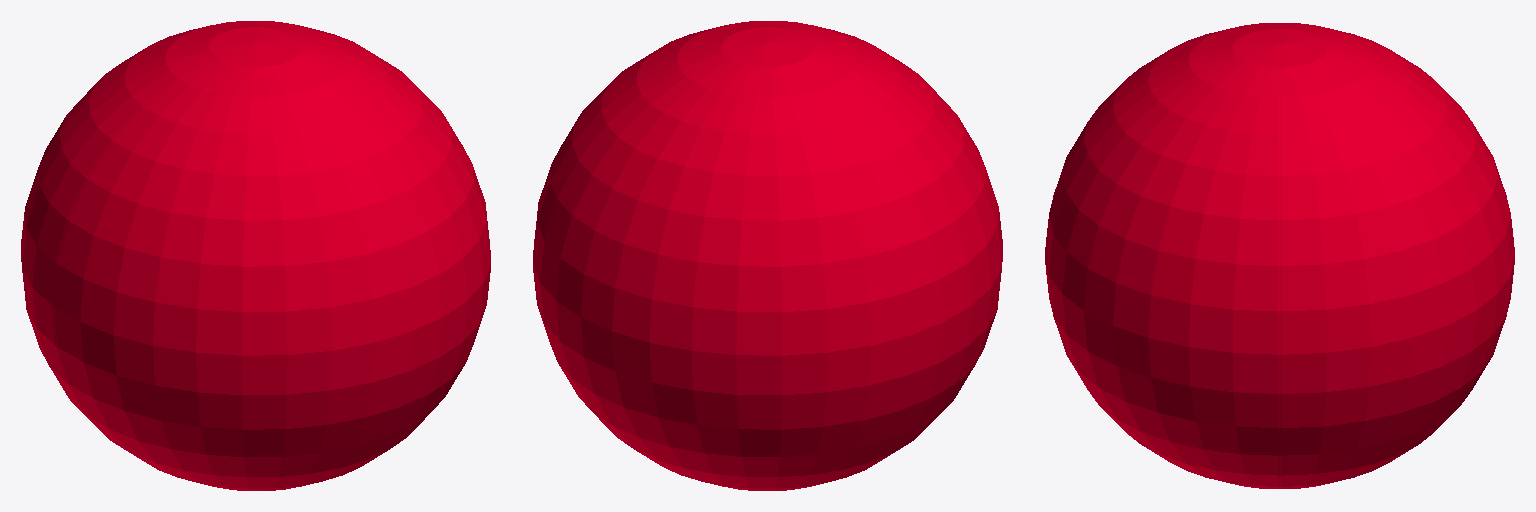
robot.urdf — tactip:
<?xml version="1.0" ?>
<robot name="tactip">

    <link name="base_link"/>
    <link name="translation_x"/>
    <link name="translation_y"/>
    <link name="translation_z"/>


    <joint name="x_joint" type="prismatic">
        <!-- <origin xyz="-0.204 0 0" rpy="0 0 0"/> -->
        <origin xyz="0 0 0.085" rpy="3.1415 0 0"/>
        <parent link="base_link"/>
        <child link="translation_x"/>
        <axis xyz="1 0 0"/>
		<limit lower="-0.200000" upper="0.200000"/>
    </joint>

    <joint name="y_joint" type="prismatic">
        <!-- <origin xyz="0 0.993 0" rpy="0 0 0"/> -->
        <origin xyz="0 0 0" rpy="0 0 0"/>
        <parent link="translation_x"/>
        <child link="translation_y"/>
        <axis xyz="0 1 0"/>
		<limit lower="-0.200000" upper="0.200000"/>
    </joint>

    <joint name="z_joint" type="fixed">
        <!-- <origin xyz="0 0 0.958" rpy="0 0 0"/> -->
        <origin xyz="0 0 0" rpy="0 0 0"/>
        <parent link="translation_y"/>
        <child link="translation_z"/>
        <axis xyz="0 0 1"/>
    </joint>


	<link name="tactip_body_link">
		<inertial>
			<origin rpy="0.00000 -0.00000 0.00000" xyz="0.00000 0.00000 0.00000"/>
			<mass value="0.25000"/>
			<inertia ixx="0.00022" ixy="0" ixz="0" iyy="0.00021" iyz="0" izz="0.00021"/>
		</inertial>
		<visual>
			<origin rpy="0.00000 -0.00000 0.00000" xyz="0.00000 0.00000 0.00000"/>
			<geometry>
				<mesh filename="package://tactile_sim_assets/sensor_assets/standard_tactip/body/tactip_body.obj" scale="1.00000 1.00000 1.00000"/>
			</geometry>
			<material name="mat_8">
				<color rgba="0.80000 0.80000 0.80000 1.00000" />
			</material>
		</visual>
		<collision>
			<origin rpy="0.00000 -0.00000 0.00000" xyz="0.00000 0.00000 0.00000"/>
			<geometry>
				<mesh filename="package://tactile_sim_assets/sensor_assets/standard_tactip/body/tactip_body.obj" scale="1.00000 1.00000 1.00000"/>
			</geometry>
		</collision>
	</link>

    <joint name="dummy_joint" type="fixed">
        <origin xyz="0 0 0" rpy="0 0 0"/>
        <parent link="translation_z"/>
        <child link="tactip_body_link"/>
        <axis xyz="0 0 0"/>
    </joint>

	<link name="tactip_tip_link">
		<inertial>
			<origin rpy="0.00000 -0.00000 0.00000" xyz="0.00000 0.00000 0.00000"/>
			<mass value="0.01000"/>
			<inertia ixx="0.00000" ixy="0" ixz="0" iyy="0.00000" iyz="0" izz="0.00000"/>
		</inertial>
		<visual>
			<origin rpy="0.00000 -0.00000 0.00000" xyz="0.00000 0.00000 0.00000"/>
			<geometry>
				<mesh filename="package://tactile_sim_assets/sensor_assets/standard_tactip/tip/skin.obj" scale="1.00000 1.00000 1.00000"/>
			</geometry>
			<material name="mat_9">
				<color rgba="0.00000 0.00000 1.00000 0.00000" />
			</material>
		</visual>
		<!-- <collision>
			<origin rpy="0.00000 -0.00000 0.00000" xyz="0.00000 0.00000 0.00000"/>
			<geometry>
				<mesh filename="package://tactile_sim_assets/sensor_assets/standard_tactip/tip/core.obj" scale="1.00000 1.00000 1.00000"/>
			</geometry>
		</collision> -->
	</link>

	<joint name="tactip_tip_to_body" type="fixed">
		<parent link="tactip_body_link"/>
		<child link="tactip_tip_link"/> 
		<dynamics damping="1.0" friction="0.0001"/>
		<origin rpy="1.57000 -0.00000 0.00000" xyz="0.00000 0.00000 0.06500"/>
		<axis xyz="0.00000 0.00000 0.00000"/>
	</joint>

<!-- this is a fake link for attaching the camera -->
	<link name="elastomer_tip">
		<inertial>
			<origin rpy="0.00000 -0.00000 0.00000" xyz="0.00000 0.00000 0.00000"/>
			<mass value="0.00000"/>
			<inertia ixx="0.00000" ixy="0" ixz="0" iyy="0.00000" iyz="0" izz="0.00000"/>
		</inertial>
		<visual>
			<origin rpy="0.00000 -0.00000 0.00000" xyz="0.00000 0.00000 0.00000"/>
			<geometry>
				<sphere radius="0.00100"/>
			</geometry>
			<material name="mat_10">
				<color rgba="0.90000 0.00000 0.20000 0.50000" />
			</material>
		</visual>
	</link>
	<joint name="dummy_camera_joint" type="fixed">
		<parent link="tactip_tip_link"/>
		<child link="elastomer_tip"/>
		<dynamics damping="1.0" friction="0.0001"/>
		<origin rpy="-1.57 -0.00000 0.00000" xyz="0.00000 0.02 -0.0"/>
		<axis xyz="0.00000 0.00000 0.00000"/>
	</joint>





	<link name="tcp_link">
		<inertial>
			<origin rpy="0.00000 -0.00000 1.57000" xyz="0.00000 0.00000 0.00000"/>
			<mass value="0.00000"/>
			<inertia ixx="0.00000" ixy="0" ixz="0" iyy="0.00000" iyz="0" izz="0.00000"/>
		</inertial>
		<visual>
			<origin rpy="0.00000 -0.00000 0.00000" xyz="0.00000 0.00000 0.00000"/>
			<geometry>
				<sphere radius="0.00100"/>
			</geometry>
			<material name="mat_10">
				<color rgba="0.90000 0.00000 0.20000 0.50000" />
			</material>
		</visual>
	</link>
	<joint name="tcp_joint" type="fixed">
		<parent link="tactip_body_link"/>
		<child link="tcp_link"/>
		<dynamics damping="1.0" friction="0.0001"/>
		<origin rpy="0.00000 -0.00000 0.00000" xyz="0.00000 0.00000 0.08500"/>
		<axis xyz="0.00000 0.00000 0.00000"/>
	</joint>


</robot>

--- Facts derived from the render (not from the file) ---
Views: 3 orthographic renders of the robot side by side, from view 1: azimuth 30°, elevation 25°; view 2: azimuth 150°, elevation 25°; view 3: azimuth 270°, elevation 25°.
Model tactip with 8 links and 7 joints (2 prismatic, 5 fixed), rooted at base_link, posed every joint at zero.
Links seen in each view (by area): view 1: elastomer_tip, tcp_link; view 2: tcp_link, elastomer_tip; view 3: elastomer_tip, tcp_link.
Boxes of the visible links, x1=… form: elastomer_tip: x1=53, y1=37, x2=490, y2=490; tcp_link: x1=21, y1=21, x2=395, y2=440; tcp_link: x1=533, y1=37, x2=970, y2=490; elastomer_tip: x1=628, y1=21, x2=1002, y2=440; elastomer_tip: x1=1045, y1=23, x2=1279, y2=488; tcp_link: x1=1280, y1=23, x2=1514, y2=488.
Bounding box of the posed robot: 0.002 × 0.002 × 0.002 m (x, y, z).
0 mesh visuals loaded from 2 distinct referenced files (none loaded); not drawn: 2 (reference not matched to a file when rendering).
